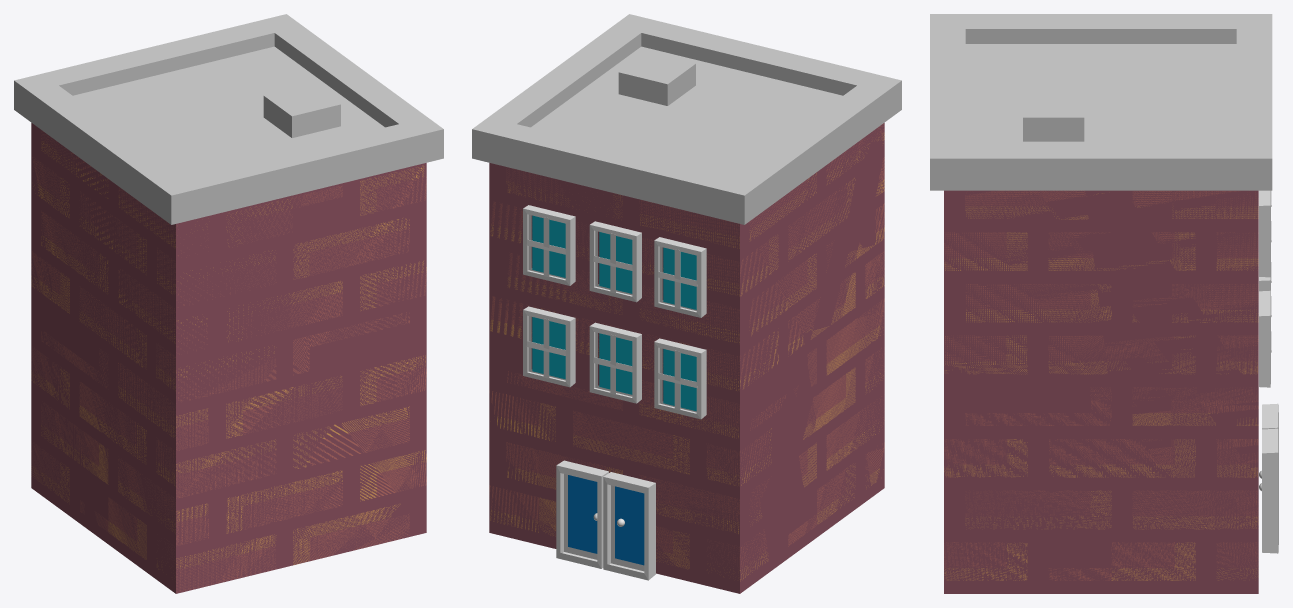
The model's file is Building.fbx.
The picture shows the model from 3 angles, left to right: view 1: azimuth 30°, elevation 25°; view 2: azimuth 150°, elevation 25°; view 3: azimuth 270°, elevation 25°; orthographic projection. The views are drawn at different scales.
Visible parts, largest first — view 1: Building.001, Ceiling, Motor; view 2: Building.001, Ceiling, Frame.006, Motor, Frame.003, DoorReflection.001, DoorReflection, Frame.012, Frame.005, Frame.011, Frame.009, Frame.007 (+7 smaller); view 3: Building.001, Ceiling, Motor, Frame.003, Frame.005, Frame.011.
Part boxes in pixels (x1,y1,x2,y2): Building.001: (31, 123, 426, 593); Ceiling: (14, 14, 443, 224); Motor: (263, 83, 340, 137); Building.001: (489, 123, 884, 593); Ceiling: (472, 14, 901, 224); Frame.006: (603, 472, 655, 580); Motor: (618, 51, 695, 105); Frame.003: (556, 460, 608, 568); DoorReflection.001: (568, 475, 597, 553); DoorReflection: (615, 486, 644, 565); Frame.012: (654, 338, 706, 419); Frame.005: (523, 306, 575, 387); Frame.011: (523, 205, 575, 285); Frame.009: (654, 237, 706, 317); Frame.007: (589, 322, 641, 403); Building.001: (944, 190, 1258, 593); Ceiling: (930, 14, 1272, 190); Motor: (1023, 91, 1084, 141); Frame.003: (1262, 428, 1278, 553); Frame.005: (1259, 290, 1270, 387); Frame.011: (1259, 190, 1270, 277).
Bounding box in the file's own units: 344 × 500 × 351.
